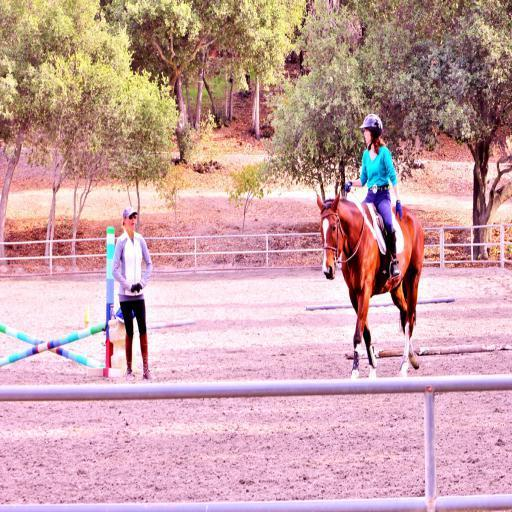horse: (316, 190, 426, 382)
